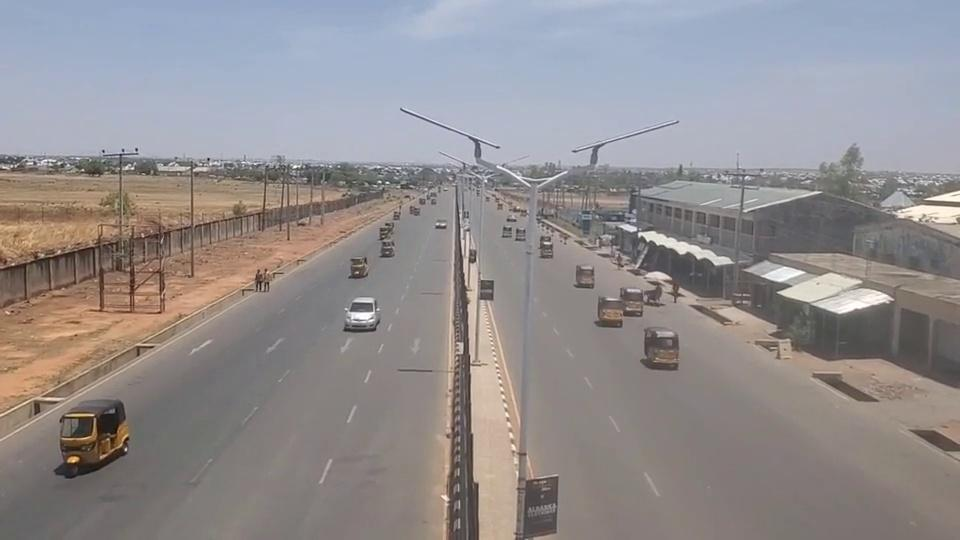car: (343, 296, 380, 330)
keke: (58, 397, 130, 472), (643, 326, 680, 368), (597, 295, 625, 327), (619, 287, 644, 316), (575, 264, 595, 287), (349, 256, 369, 278), (380, 240, 395, 257), (540, 240, 554, 258), (515, 227, 526, 240)
